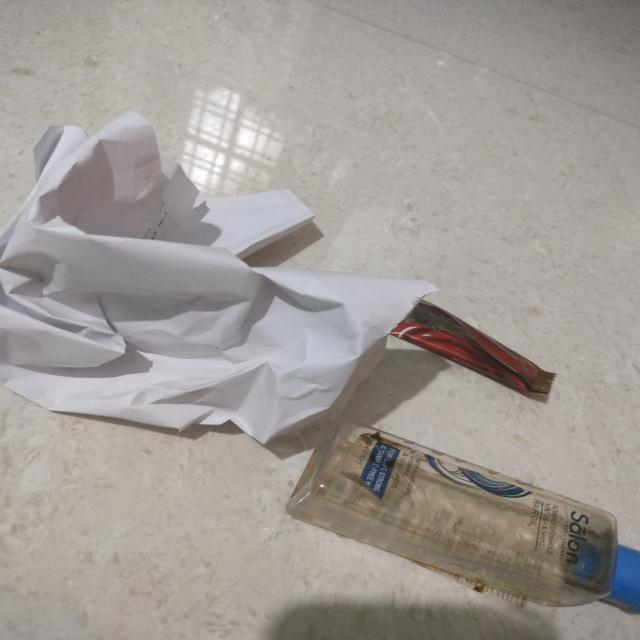paper: (8, 115, 372, 421)
plastic: (343, 432, 640, 640), (414, 296, 594, 414)
